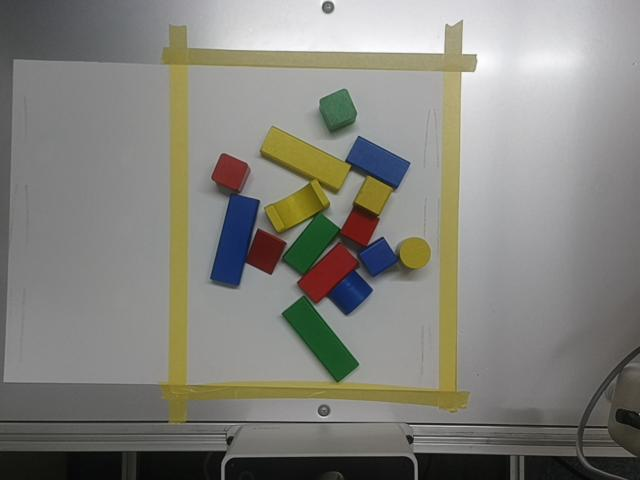blue_cube: (358, 237, 396, 276)
blue_longrect: (210, 194, 259, 286)
blue_rect: (345, 136, 410, 189)
cylinder: (396, 237, 430, 269)
green_cube: (319, 89, 356, 132)
green_longrect: (282, 296, 358, 381), (283, 214, 339, 274)
half_cylinder: (328, 271, 372, 315)
red_cube: (211, 154, 250, 192)
red_rect: (298, 243, 357, 302)
triangle: (247, 229, 285, 274), (341, 207, 378, 246)
yellow_archrect: (265, 180, 329, 231)
yellow_cube: (354, 176, 393, 216)
yellow_longrect: (260, 126, 350, 191)
